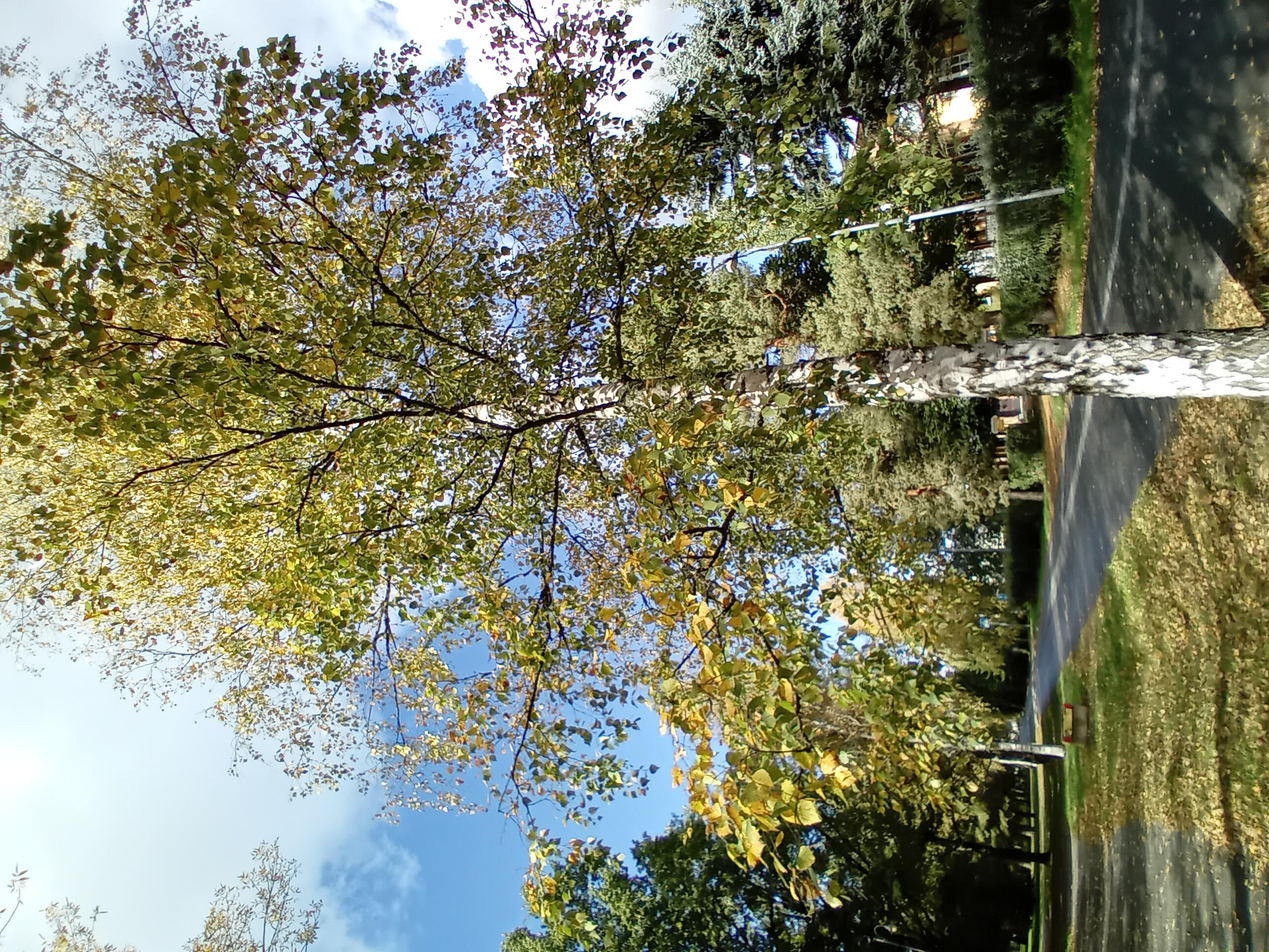Birch: (29, 0, 1265, 950), (353, 0, 1185, 952), (79, 582, 444, 826)
